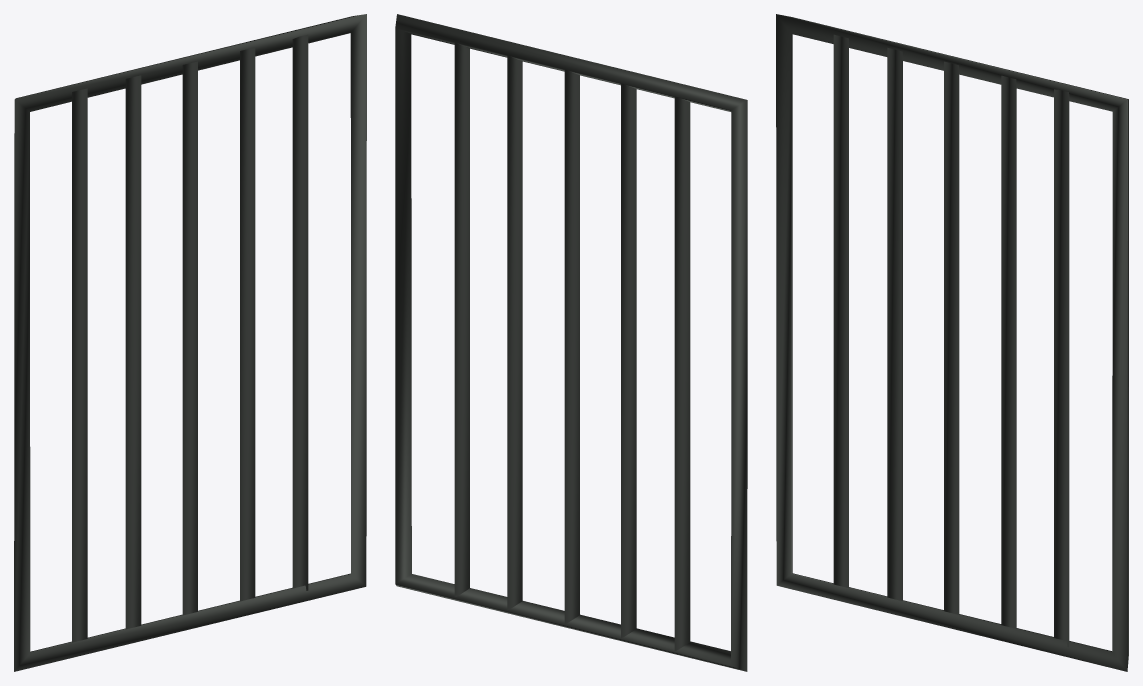
File: INST_SWORDLIGHT_CELLDOORBIG.fbx
The picture shows the model from 3 angles, left to right: view 1: azimuth 30°, elevation 25°; view 2: azimuth 150°, elevation 25°; view 3: azimuth 330°, elevation 25°; orthographic projection.
Visible parts, largest first — view 1: INST_SWORDLIGHT_CELLDOORBIG; view 2: INST_SWORDLIGHT_CELLDOORBIG; view 3: INST_SWORDLIGHT_CELLDOORBIG.
Boxes of the visible parts, x1,y1,x2,y2 form: INST_SWORDLIGHT_CELLDOORBIG: [14, 14, 366, 671]; INST_SWORDLIGHT_CELLDOORBIG: [395, 14, 747, 671]; INST_SWORDLIGHT_CELLDOORBIG: [776, 14, 1128, 671].
Size of the model in its own units: 20237 by 31486 by 811.
1 material, 1 textured.
